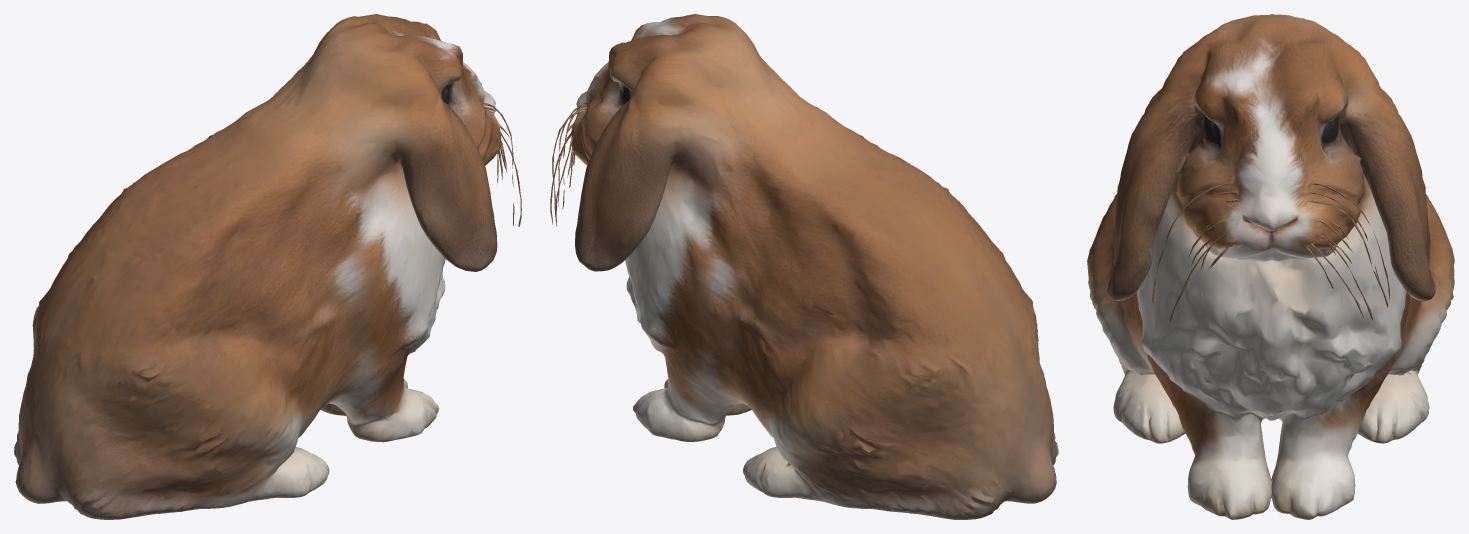
Rendered from day3.glb.
3 renders of one model, left to right at view 1: azimuth 30°, elevation 25°; view 2: azimuth 150°, elevation 25°; view 3: azimuth 270°, elevation 25°, orthographic. The views are drawn at different scales.
Parts seen in each view (by area): view 1: tripo_node_37c90e9c-5358-42f5-a0c5-4848a5b0e63d; view 2: tripo_node_37c90e9c-5358-42f5-a0c5-4848a5b0e63d; view 3: tripo_node_37c90e9c-5358-42f5-a0c5-4848a5b0e63d.
Part boxes in pixels (x1=…): tripo_node_37c90e9c-5358-42f5-a0c5-4848a5b0e63d: x1=14, y1=14, x2=521, y2=519; tripo_node_37c90e9c-5358-42f5-a0c5-4848a5b0e63d: x1=550, y1=14, x2=1058, y2=519; tripo_node_37c90e9c-5358-42f5-a0c5-4848a5b0e63d: x1=1087, y1=14, x2=1454, y2=519.
Size of the model in its own units: 1 by 0.7866 by 0.5523.
1 material, 1 textured.
